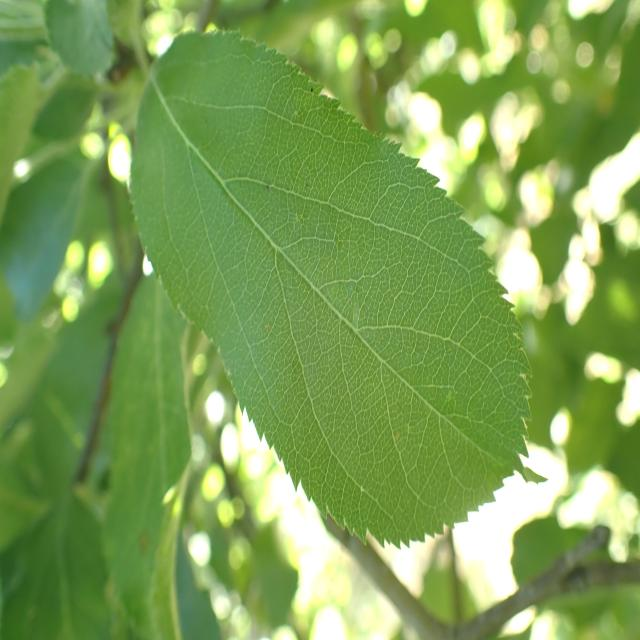healthy: (128, 27, 550, 551)
